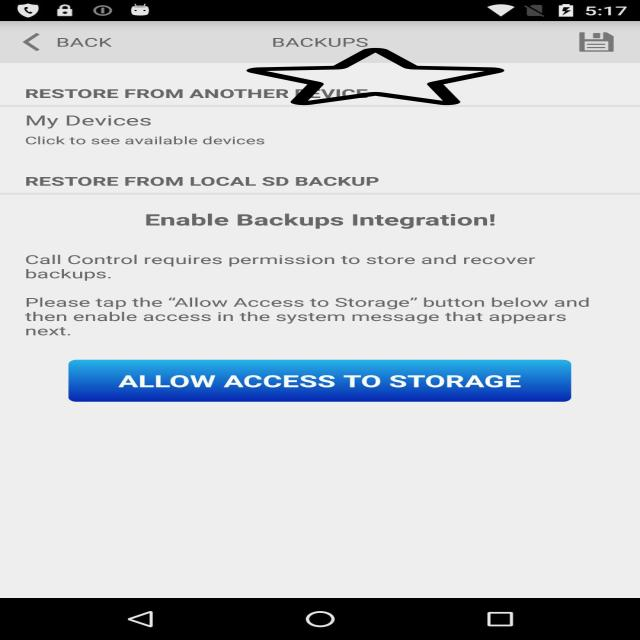forced continuity: (246, 47, 504, 106)
